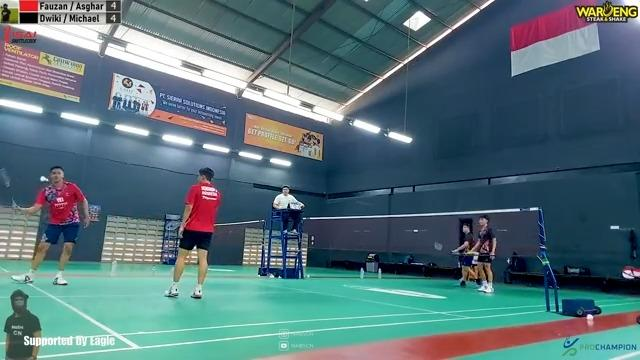Shuttlecock: (38, 174, 50, 184)
